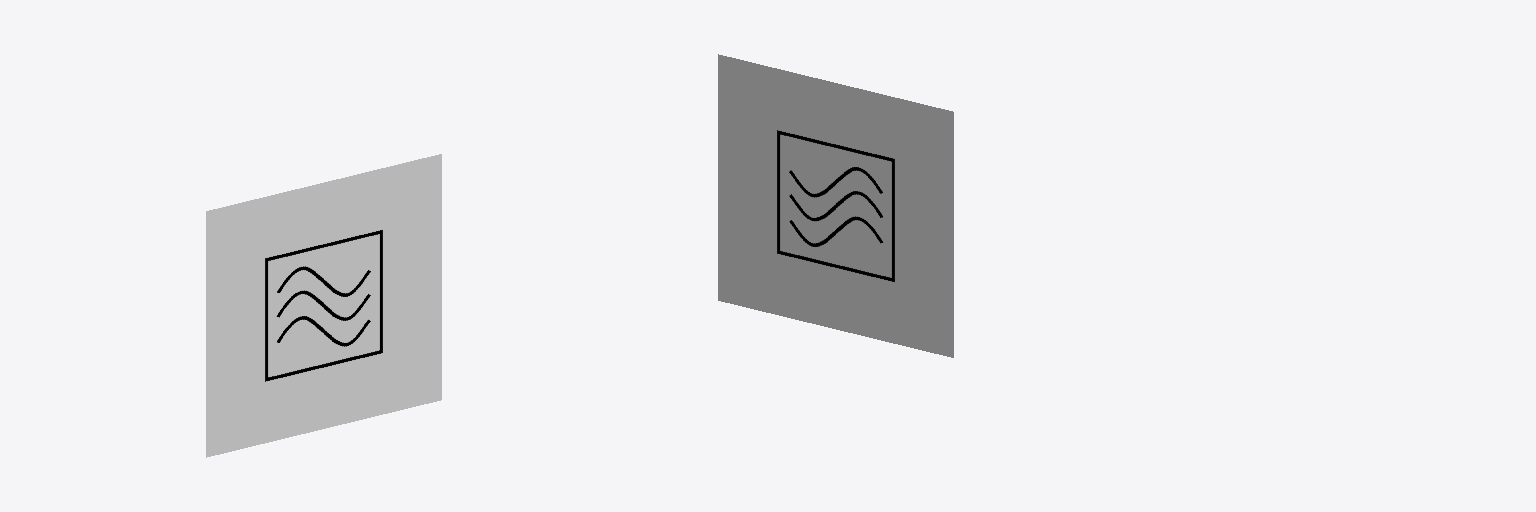
3 views of the same model, side by side, from view 1: azimuth 30°, elevation 25°; view 2: azimuth 150°, elevation 25°; view 3: azimuth 270°, elevation 25° (orthographic).
Parts seen in each view (by area): view 1: Mesh; view 2: Mesh; view 3: none.
Boxes of the visible parts, box(x1,y1,x2,y2) form: Mesh: box(206, 154, 441, 457); Mesh: box(718, 54, 953, 357).
Bounding box in the file's own units: 50 × 50 × 50.
2 materials, 2 textured.